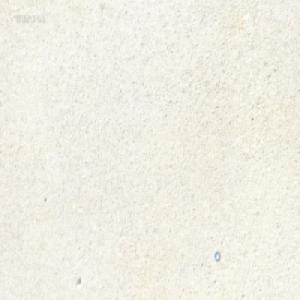Washer: (213, 250, 220, 262)
